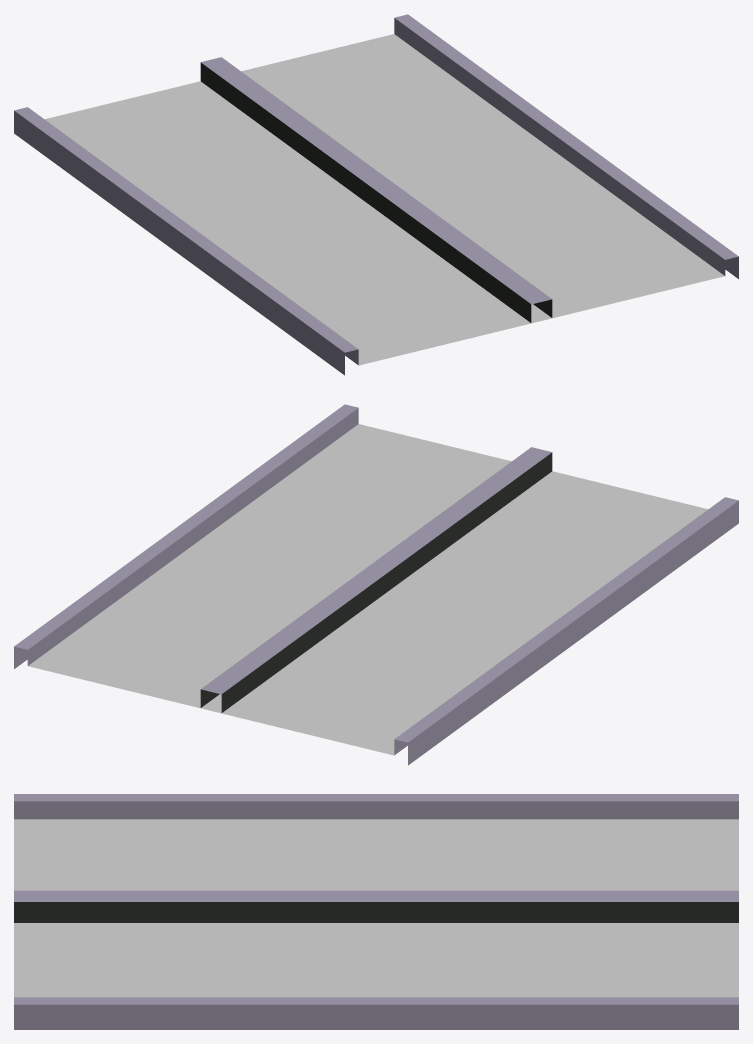
File: car_track_MOCKUP.fbx
3 renders of one model, top to bottom at view 1: azimuth 30°, elevation 25°; view 2: azimuth 150°, elevation 25°; view 3: azimuth 270°, elevation 25°, orthographic. The views are drawn at different scales.
Parts seen in each view (by area): view 1: car_track_MOCKUP; view 2: car_track_MOCKUP; view 3: car_track_MOCKUP.
Boxes of the visible parts, x1,y1,x2,y2 form: car_track_MOCKUP: (14, 14, 738, 375); car_track_MOCKUP: (14, 404, 738, 765); car_track_MOCKUP: (14, 794, 738, 1029).
Bounding box in the file's own units: 0.6875 × 0.0429 × 1.
